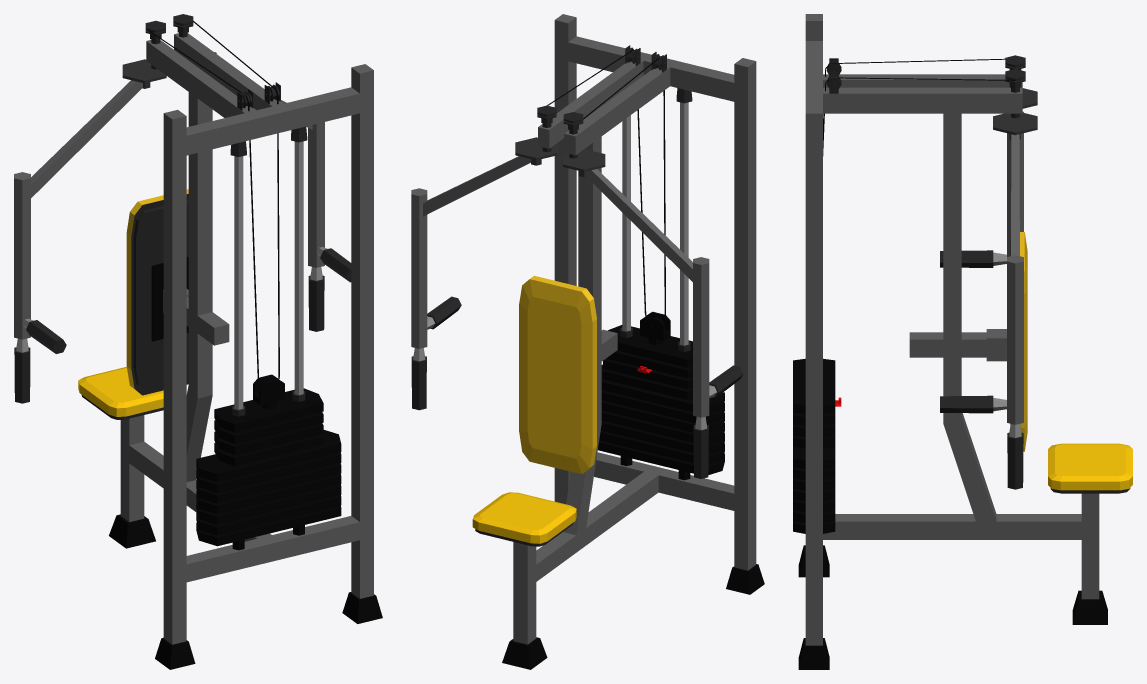
The model's file is machine_demo.glb.
3 renders of one model, left to right at view 1: azimuth 30°, elevation 25°; view 2: azimuth 150°, elevation 25°; view 3: azimuth 270°, elevation 25°, orthographic. The views are drawn at different scales.
Parts seen in each view (by area): view 1: Butterfly; view 2: Butterfly; view 3: Butterfly.
Boxes of the visible parts, box(x1,y1,x2,y2) form: Butterfly: box(14, 14, 382, 669); Butterfly: box(411, 14, 764, 669); Butterfly: box(793, 14, 1132, 669).
Size of the model in its own units: 3.42 by 5.75 by 3.2.
Materials: 1 (1 with a texture image).
